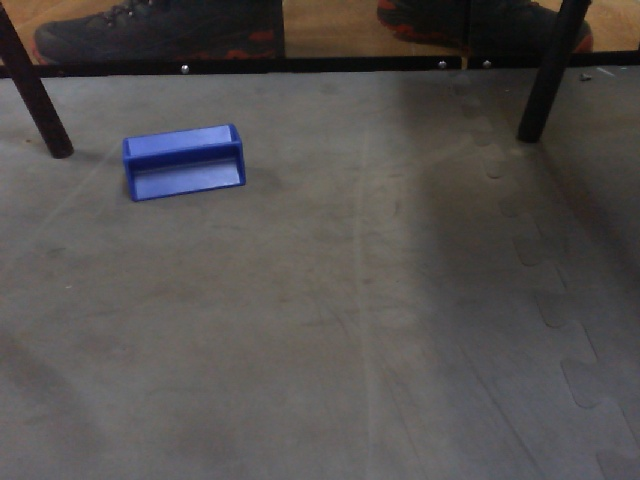BlueSample: (118, 121, 251, 207)
